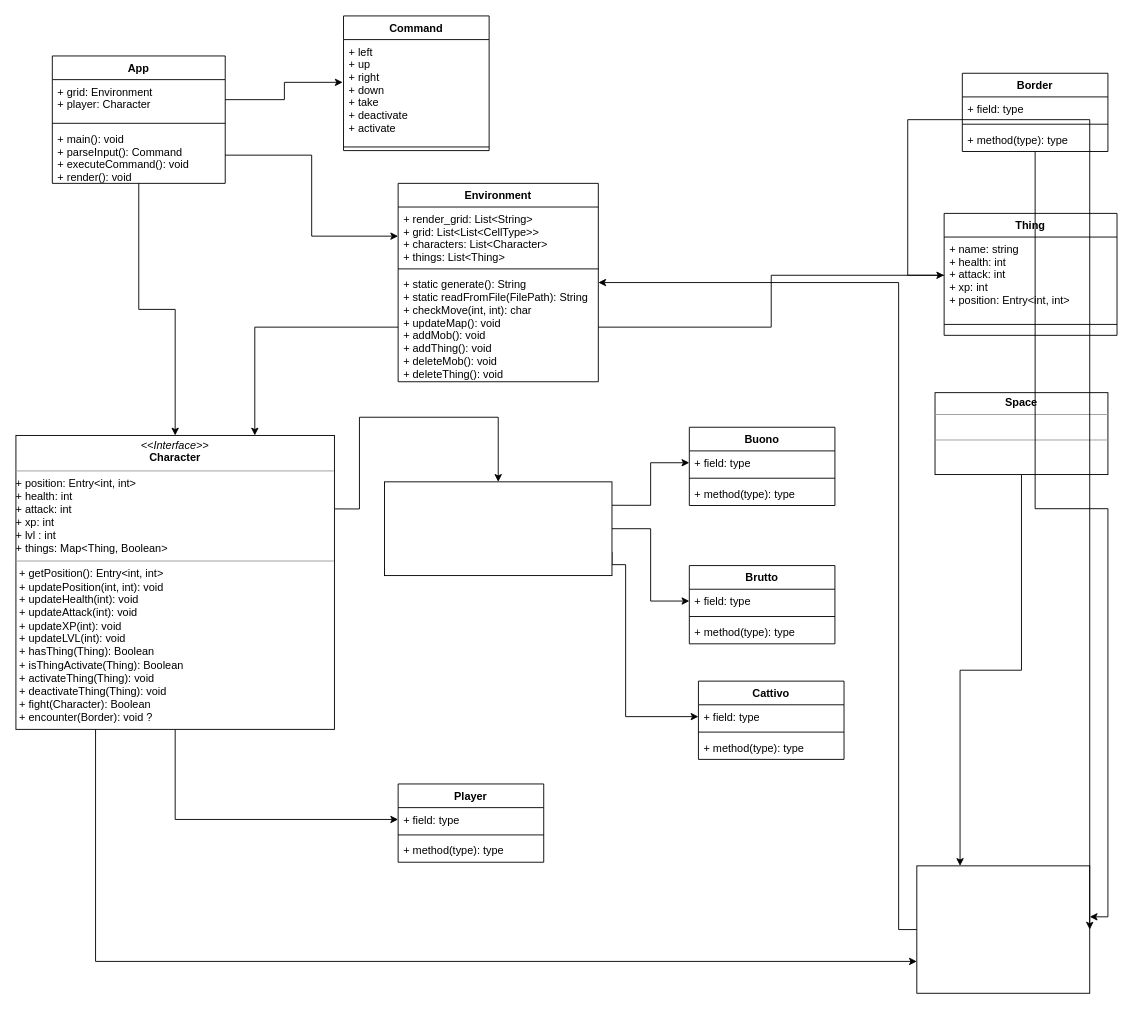
Image size: 1133x1009. Some labels were removed from this diagram. Each missing label, with the centre of its shape:
"<<Interface>> CellType + name: string + getName(): string" belongs at (1003,929).
"<<Interface>> Mob + field: type + generateNewPosition(): Entry<int, int>" belongs at (498,528).
